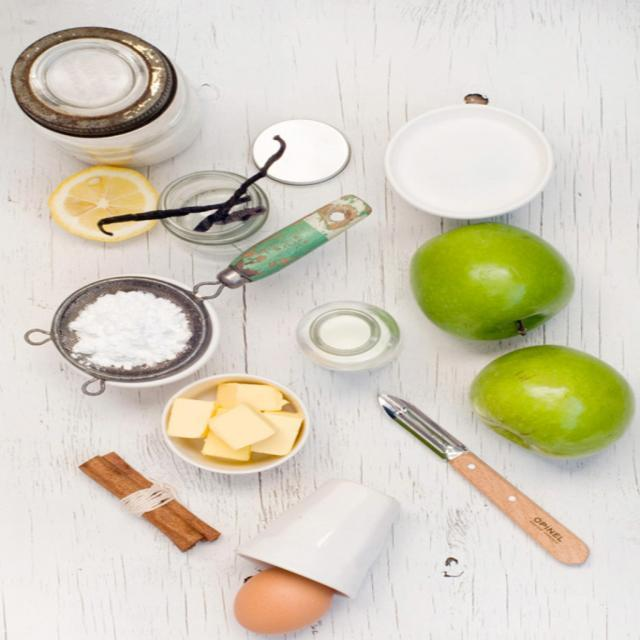Lemon: (51, 167, 163, 245)
